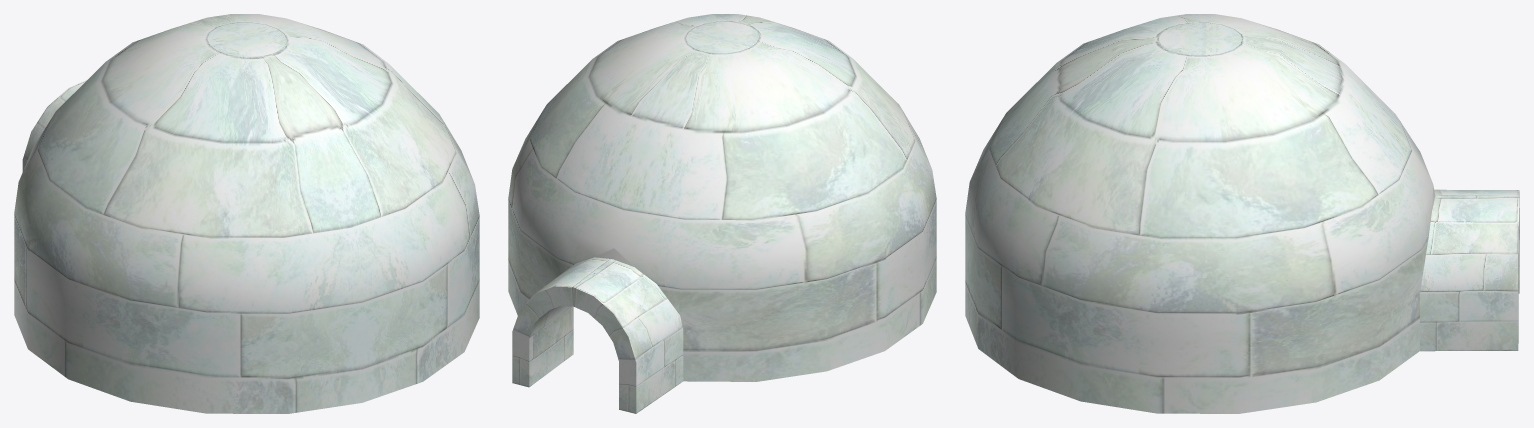
The model's file is Iglu.FBX.
3 renders of one model, left to right at view 1: azimuth 30°, elevation 25°; view 2: azimuth 150°, elevation 25°; view 3: azimuth 270°, elevation 25°, orthographic. The views are drawn at different scales.
Parts seen in each view (by area): view 1: Sphere001; view 2: Sphere001; view 3: Sphere001.
Boxes of the visible parts, x1,y1,x2,y2 form: Sphere001: (14, 14, 479, 413); Sphere001: (508, 14, 936, 413); Sphere001: (965, 14, 1519, 413).
Bounding box in the file's own units: 498 × 332 × 601.
